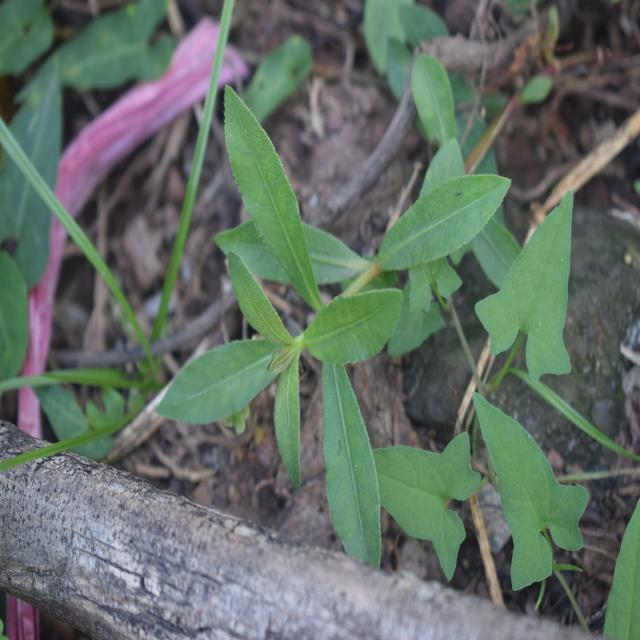Alligatorweed: (189, 90, 461, 547)
